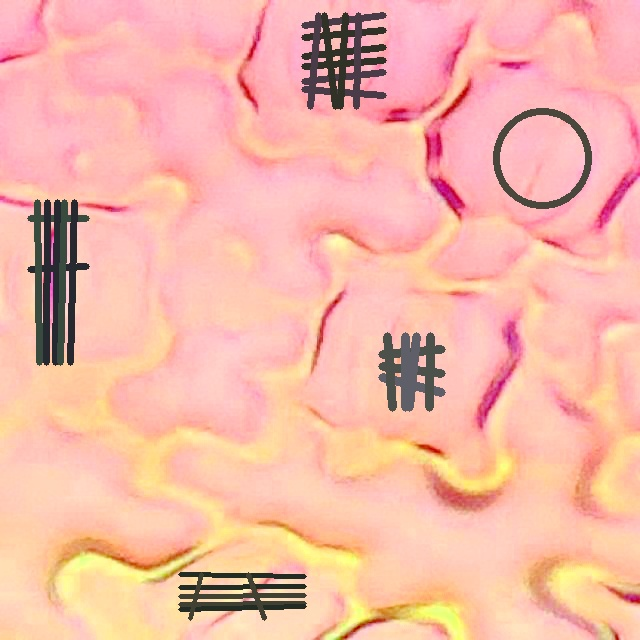close: (491, 107, 592, 209), (179, 572, 306, 619), (378, 332, 445, 411)
open: (28, 200, 89, 364), (301, 12, 386, 109)
